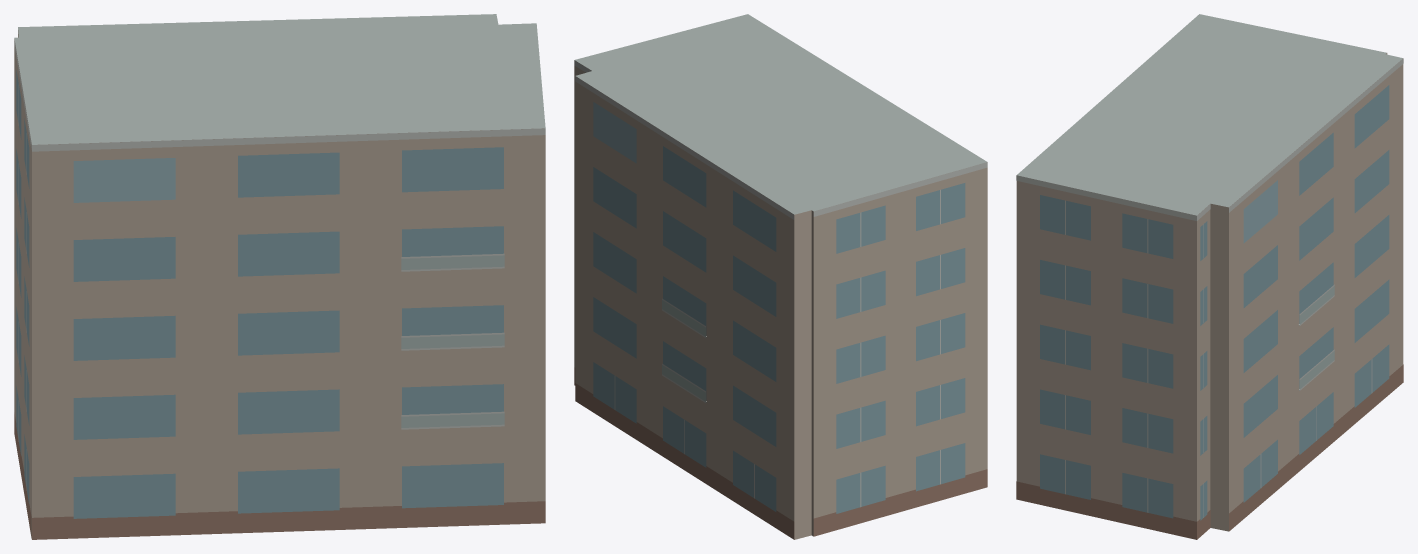
Rendered from survey-upis-32888529.glb.
3 renders of one model, left to right at view 1: azimuth 30°, elevation 25°; view 2: azimuth 150°, elevation 25°; view 3: azimuth 270°, elevation 25°, orthographic. The views are drawn at different scales.
Parts seen in each view (by area): view 1: survey-upis-32888529.tmp; view 2: survey-upis-32888529.tmp; view 3: survey-upis-32888529.tmp.
Part boxes in pixels (x1,y1,x2,y2): survey-upis-32888529.tmp: (14,14,545,539); survey-upis-32888529.tmp: (574,14,987,539); survey-upis-32888529.tmp: (1016,14,1403,539).
Bounding box in the file's own units: 19.08 × 14.3 × 15.48.
